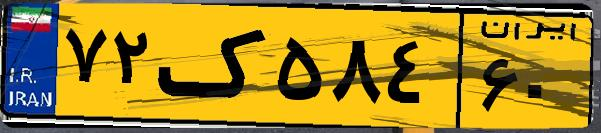0: (525, 38, 570, 115)
2: (110, 28, 158, 98)
4: (385, 28, 445, 110)
5: (270, 28, 330, 110)
6: (475, 38, 525, 113)
7: (57, 26, 110, 100)
8: (330, 28, 385, 110)
ک: (158, 12, 270, 120)
